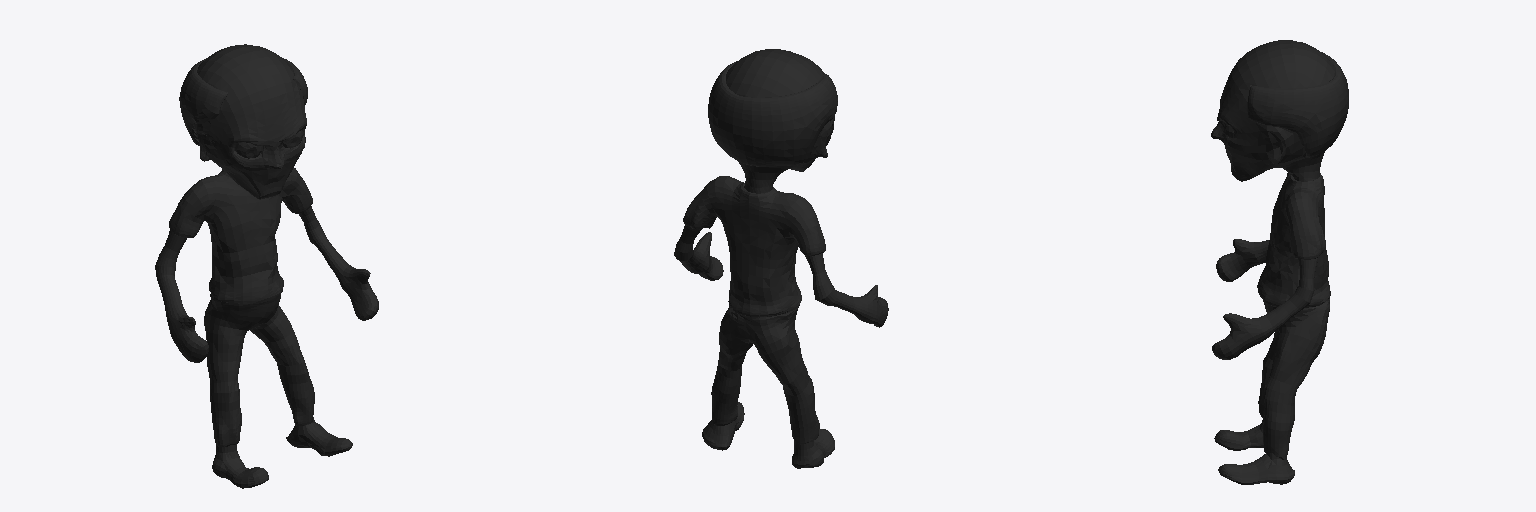
The model's file is Ribak_Rigged.obj.
3 renders of one model, left to right at view 1: azimuth 30°, elevation 25°; view 2: azimuth 150°, elevation 25°; view 3: azimuth 270°, elevation 25°, orthographic.
Visible parts, largest first — view 1: Ribak_Rigged.obj; view 2: Ribak_Rigged.obj; view 3: Ribak_Rigged.obj.
Boxes of the visible parts, <box> form: Ribak_Rigged.obj: <box>155,44,378,488</box>; Ribak_Rigged.obj: <box>674,49,888,468</box>; Ribak_Rigged.obj: <box>1211,40,1348,484</box>.
Size of the model in its own units: 0.5155 by 1.05 by 0.3205.